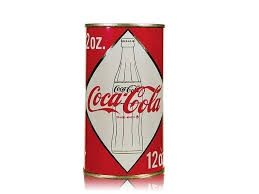coke: (87, 79, 175, 126)
